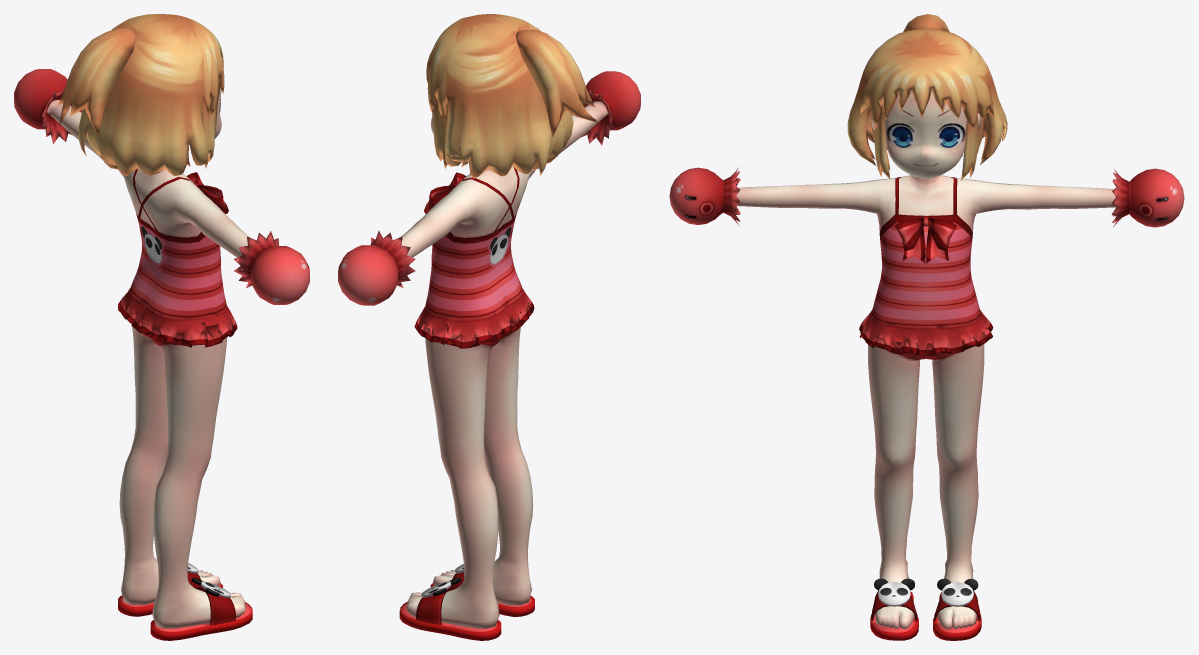
3 views of the same model, side by side, from view 1: azimuth 30°, elevation 25°; view 2: azimuth 150°, elevation 25°; view 3: azimuth 270°, elevation 25° (orthographic). The views are drawn at different scales.
Visible parts, largest first — view 1: MilkshapeExported1; view 2: MilkshapeExported1; view 3: MilkshapeExported1.
Boxes of the visible parts, x1,y1,x2,y2 form: MilkshapeExported1: (14, 14, 309, 640); MilkshapeExported1: (338, 14, 640, 640); MilkshapeExported1: (669, 14, 1184, 640).
Bounding box in the file's own units: 0.5127 × 1.65 × 1.35.
1 material, 1 textured.
